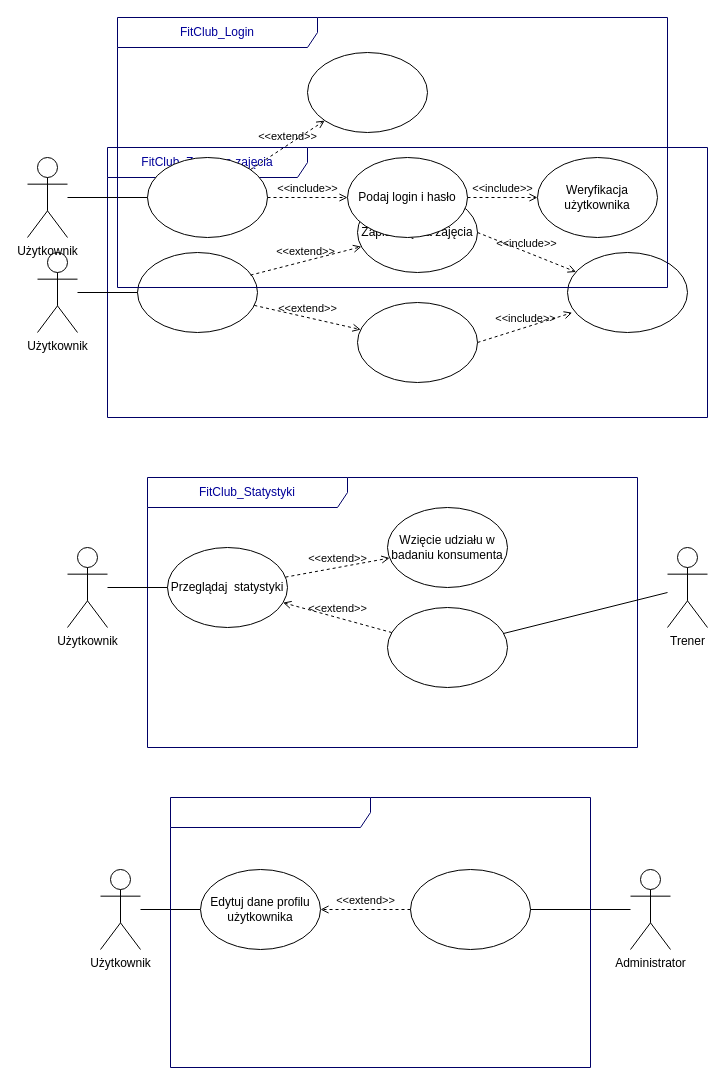
Image size: 725x1085. Some labels were removed from this diagram. The box of each missing label's shape, as (x1, y1, x2, y2) in pixels:
Dodaj komentarz, uwagi: (386, 606, 508, 688)
FitClub_DaneUzytkownik: (170, 796, 590, 1068)
Przeglądaj dostępne zajęcia: (136, 252, 258, 332)
Przeglądaj listę użytkowników: (410, 868, 530, 950)
Zaktualizuj listę na zajęcia i dodaj lub usuń powiadomienia o tych zajęciach: (566, 252, 688, 332)
Zaloguj się: (146, 156, 268, 238)
Załóż konto: (306, 52, 428, 132)
Zrezygnuj z zajęć: (356, 302, 478, 382)
